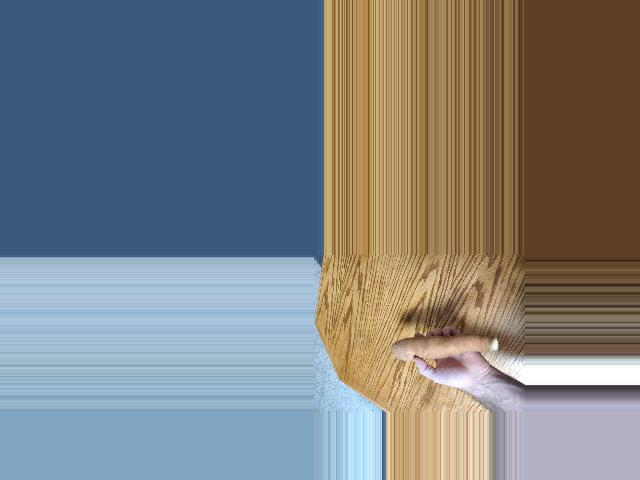sweet_potato: (391, 328, 490, 355)
